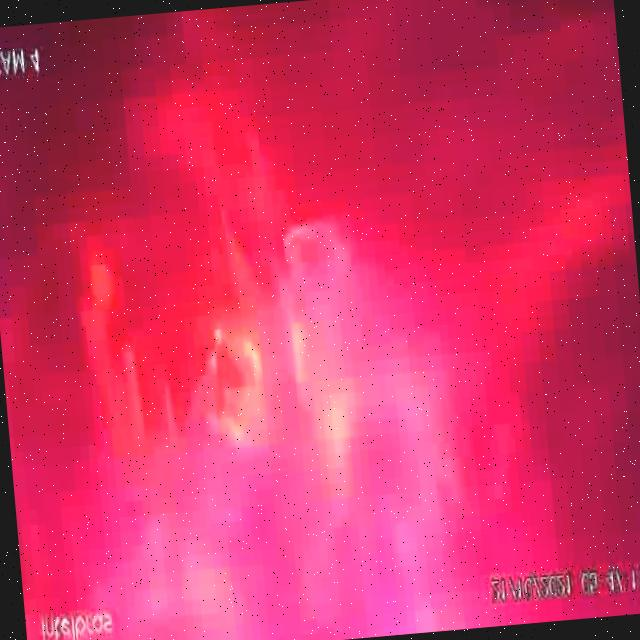fire: (28, 150, 380, 602)
